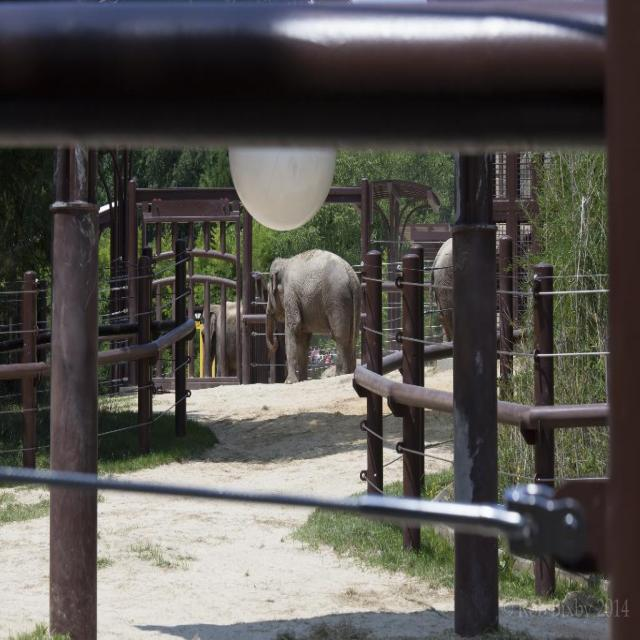elephant: (260, 237, 374, 380), (200, 295, 272, 384), (428, 222, 472, 337)
